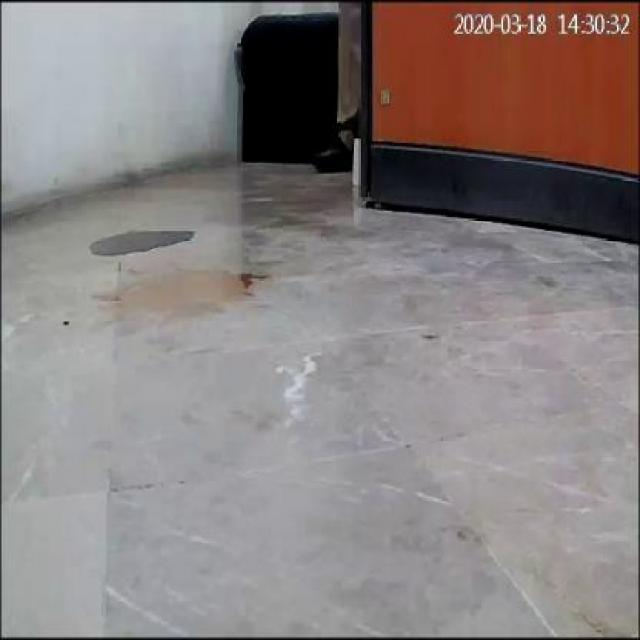spill: (88, 224, 194, 256)
